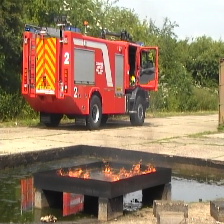fire_h: (103, 159, 156, 181)
fire_l: (58, 167, 91, 180)
